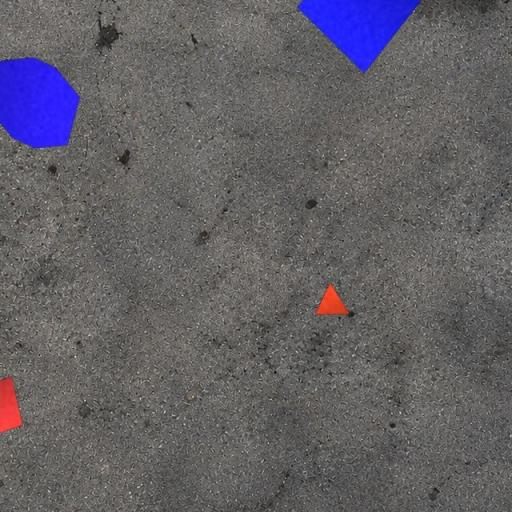BLUE_SQUARE: (297, 0, 425, 74)
RED_SQUARE: (0, 376, 24, 442)
